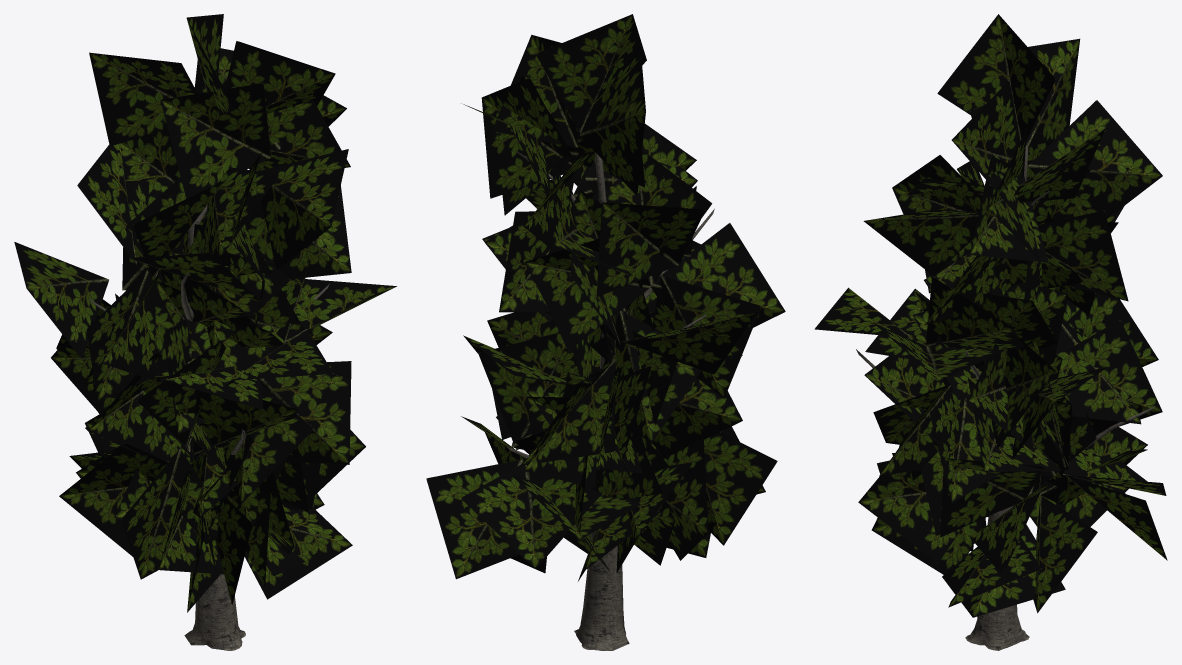
File: tree_5.obj
The picture shows the model from 3 angles, left to right: view 1: azimuth 30°, elevation 25°; view 2: azimuth 150°, elevation 25°; view 3: azimuth 270°, elevation 25°; orthographic projection. The views are drawn at different scales.
Visible parts, largest first — view 1: tree_5_leaves, tree_5; view 2: tree_5_leaves, tree_5; view 3: tree_5_leaves, tree_5.
Part boxes in pixels (x1,y1,x2,y2): tree_5_leaves: (14,14,396,612); tree_5: (87,205,329,650); tree_5_leaves: (426,14,785,581); tree_5: (506,150,714,650); tree_5_leaves: (814,14,1167,617); tree_5: (856,145,1154,650).
Size of the model in its own units: 3.72 by 6.91 by 3.63.
